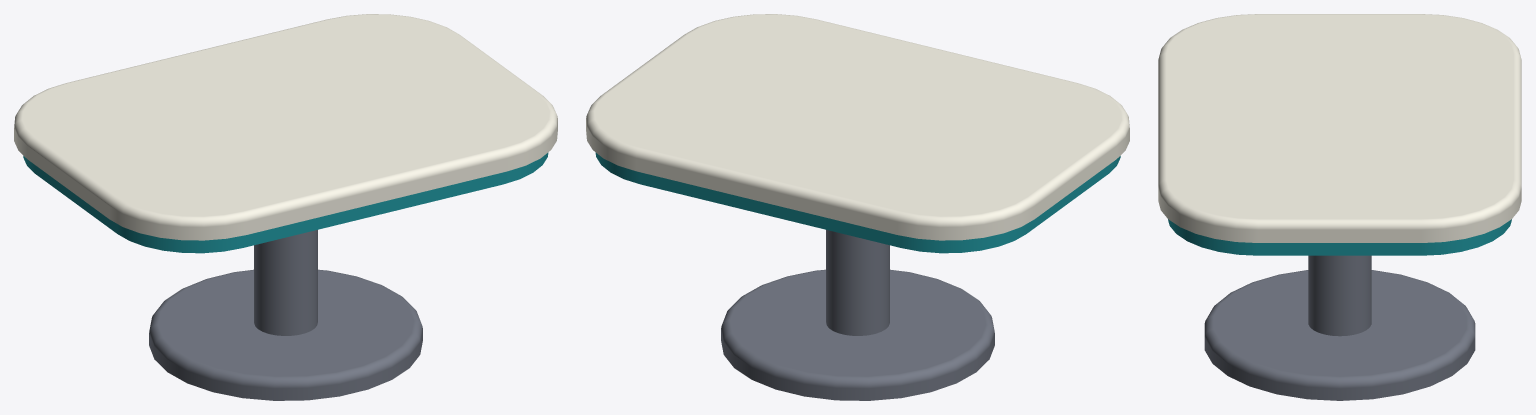
Rendered from TableV2.glb.
3 renders of one model, left to right at view 1: azimuth 30°, elevation 25°; view 2: azimuth 150°, elevation 25°; view 3: azimuth 270°, elevation 25°, orthographic.
Parts seen in each view (by area): view 1: counterPanel, metalDark (×2), counterFront; view 2: counterPanel, metalDark (×2), counterFront; view 3: counterPanel, metalDark (×2), counterFront.
Part boxes in pixels (x1=…): counterPanel: x1=14, y1=14, x2=557, y2=240; metalDark (×2): x1=149, y1=230, x2=422, y2=400; counterFront: x1=23, y1=152, x2=548, y2=253; counterPanel: x1=586, y1=14, x2=1129, y2=240; metalDark (×2): x1=721, y1=230, x2=994, y2=400; counterFront: x1=595, y1=152, x2=1120, y2=253; counterPanel: x1=1158, y1=14, x2=1521, y2=242; metalDark (×2): x1=1204, y1=255, x2=1475, y2=400; counterFront: x1=1168, y1=219, x2=1511, y2=255.
Size of the model in its own units: 1.1 by 0.55 by 0.8.
